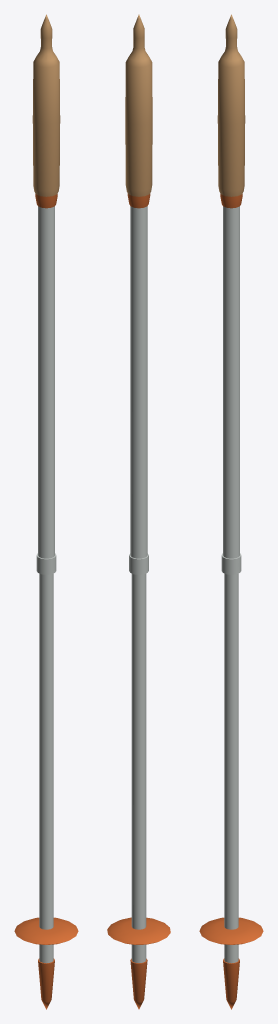
File: gear-trekking-poles.glb
The picture shows the model from 3 angles, left to right: view 1: azimuth 90°, elevation 25°; view 2: azimuth 150°, elevation 25°; view 3: azimuth 270°, elevation 25°; orthographic projection.
Visible parts, largest first — view 1: Gear_TrekkingPole_L, Gear_TrekkingPole_R; view 2: Gear_TrekkingPole_L, Gear_TrekkingPole_R; view 3: Gear_TrekkingPole_L, Gear_TrekkingPole_R.
Part boxes in pixels (<box>): Gear_TrekkingPole_L: <box>14,14,78,1009</box>; Gear_TrekkingPole_R: <box>28,25,74,1006</box>; Gear_TrekkingPole_L: <box>107,14,170,1009</box>; Gear_TrekkingPole_R: <box>112,25,166,1002</box>; Gear_TrekkingPole_L: <box>199,14,263,1009</box>; Gear_TrekkingPole_R: <box>199,27,248,1007</box>.
Bounding box in the file's own units: 0.056 × 0.9592 × 0.056.
